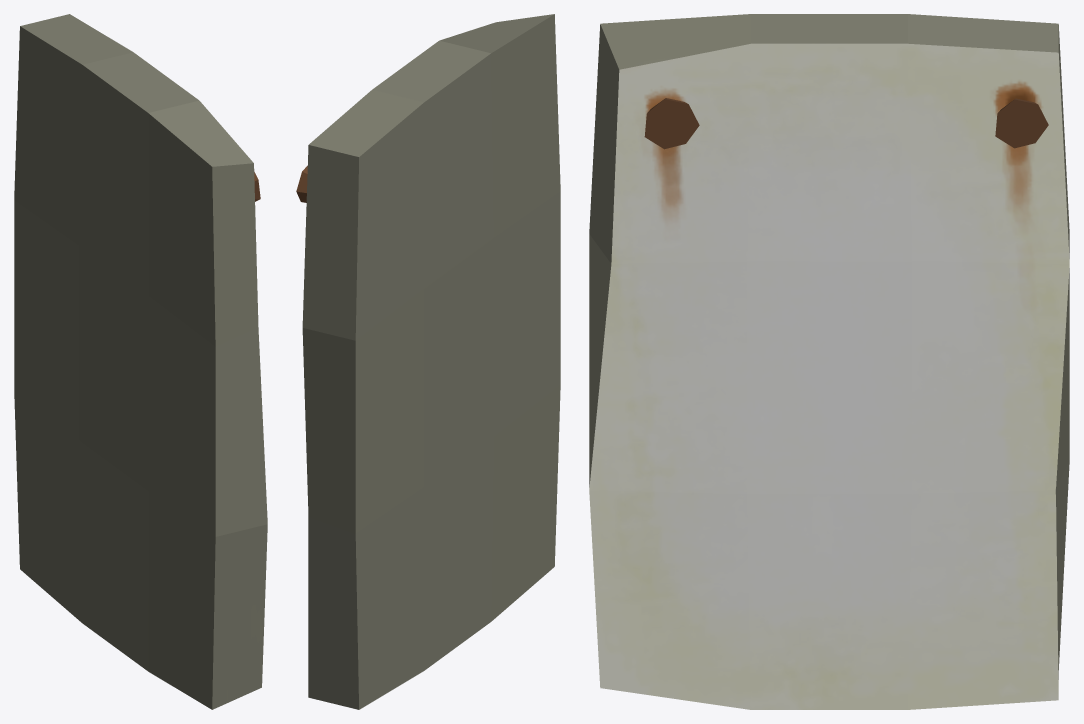
The model's file is nomer-house.fbx.
3 views of the same model, side by side, from view 1: azimuth 30°, elevation 25°; view 2: azimuth 150°, elevation 25°; view 3: azimuth 270°, elevation 25° (orthographic). The views are drawn at different scales.
Visible parts, largest first — view 1: Cylinder.005; view 2: Cylinder.005; view 3: Cylinder.005.
Part boxes in pixels (x1=…): Cylinder.005: x1=14, y1=14, x2=267, y2=709; Cylinder.005: x1=296, y1=14, x2=560, y2=709; Cylinder.005: x1=589, y1=14, x2=1069, y2=709.
Bounding box in the file's own units: 3.77 × 28.8 × 18.83.
